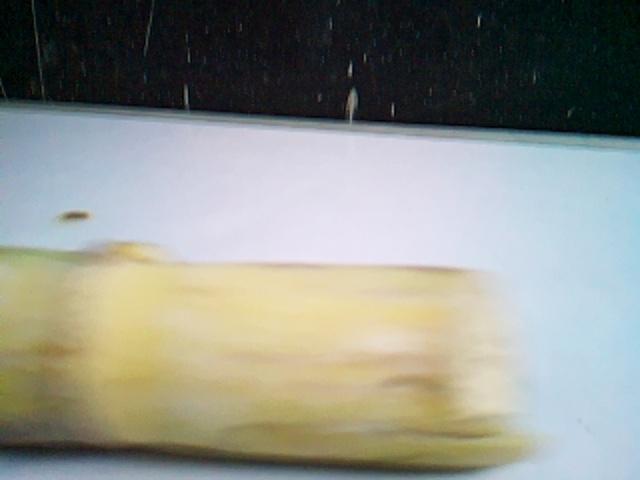Good Sugarcane: (0, 238, 573, 473)
